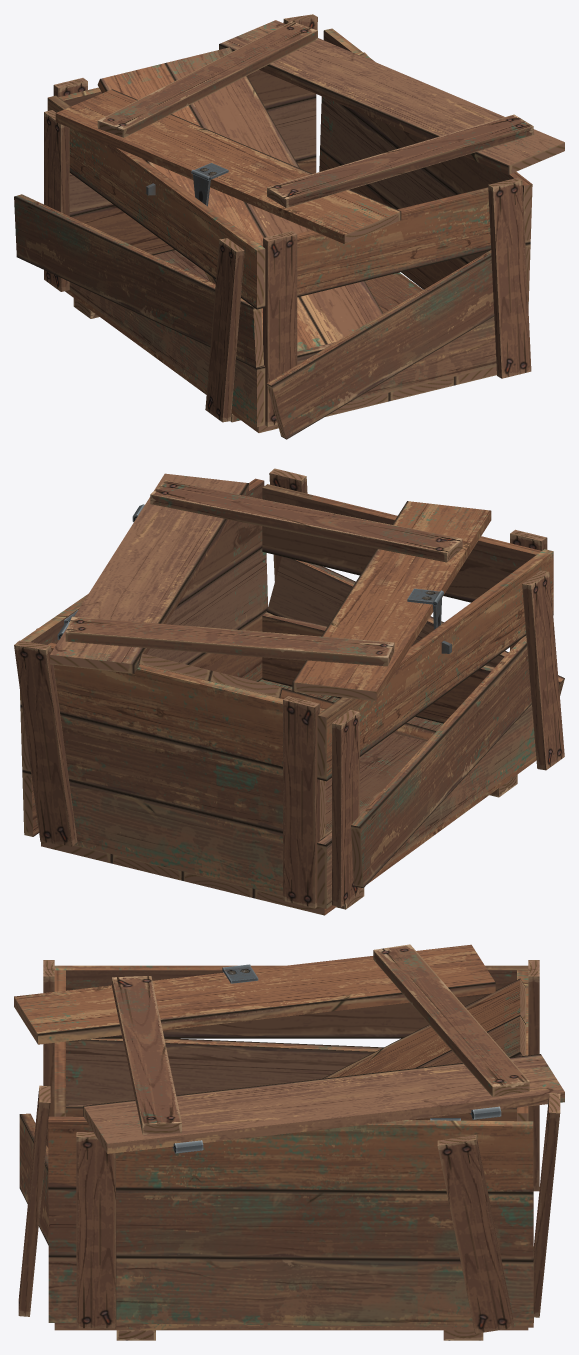
File: crate01_B.fbx
3 renders of one model, top to bottom at view 1: azimuth 30°, elevation 25°; view 2: azimuth 150°, elevation 25°; view 3: azimuth 270°, elevation 25°, orthographic. The views are drawn at different scales.
Parts seen in each view (by area): view 1: crate01_B; view 2: crate01_B; view 3: crate01_B.
Part boxes in pixels (x1,y1,x2,y2): crate01_B: (14,14,564,439); crate01_B: (14,468,564,915); crate01_B: (14,944,564,1340).
Size of the model in its own units: 86.73 by 48.17 by 97.7.
